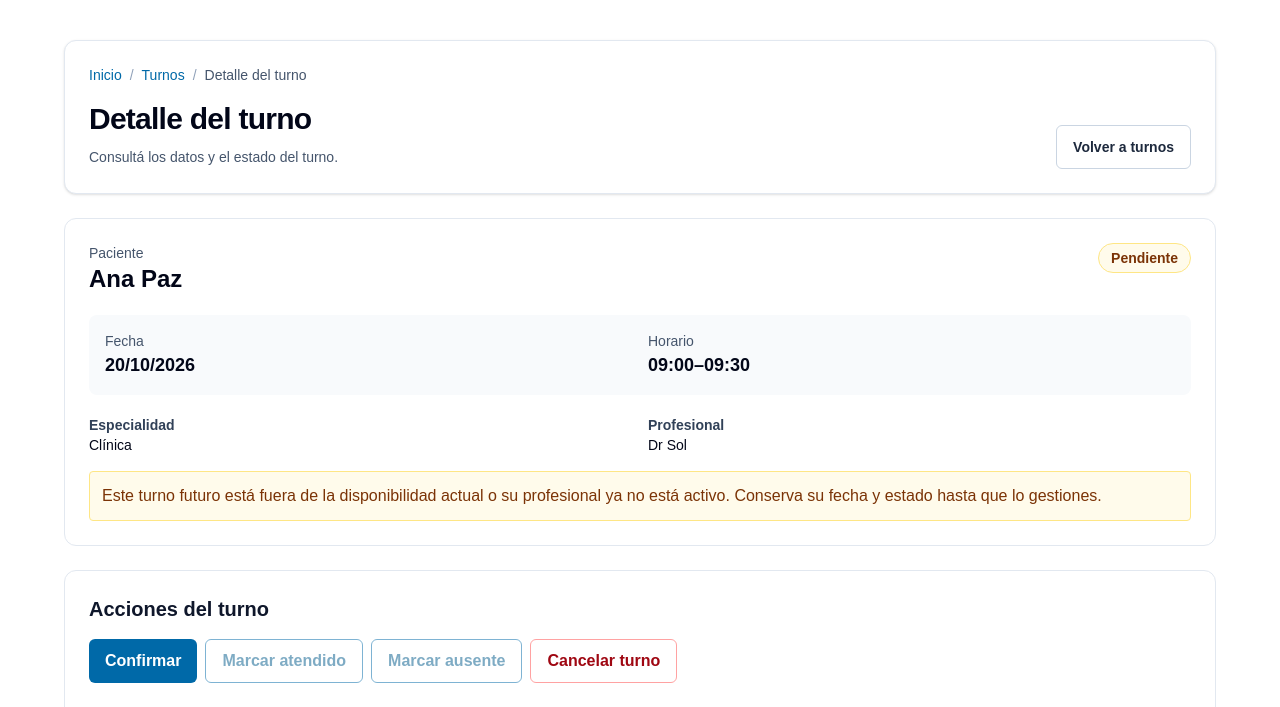
Test: appointment detail flow › asks before cancellation and prevents another status mutation after UNKNOWN_RESULT
The image size is (1280, 707).
Click the button "Cancelar turno": (604, 661) top-left (530, 639), bottom-right (677, 683)
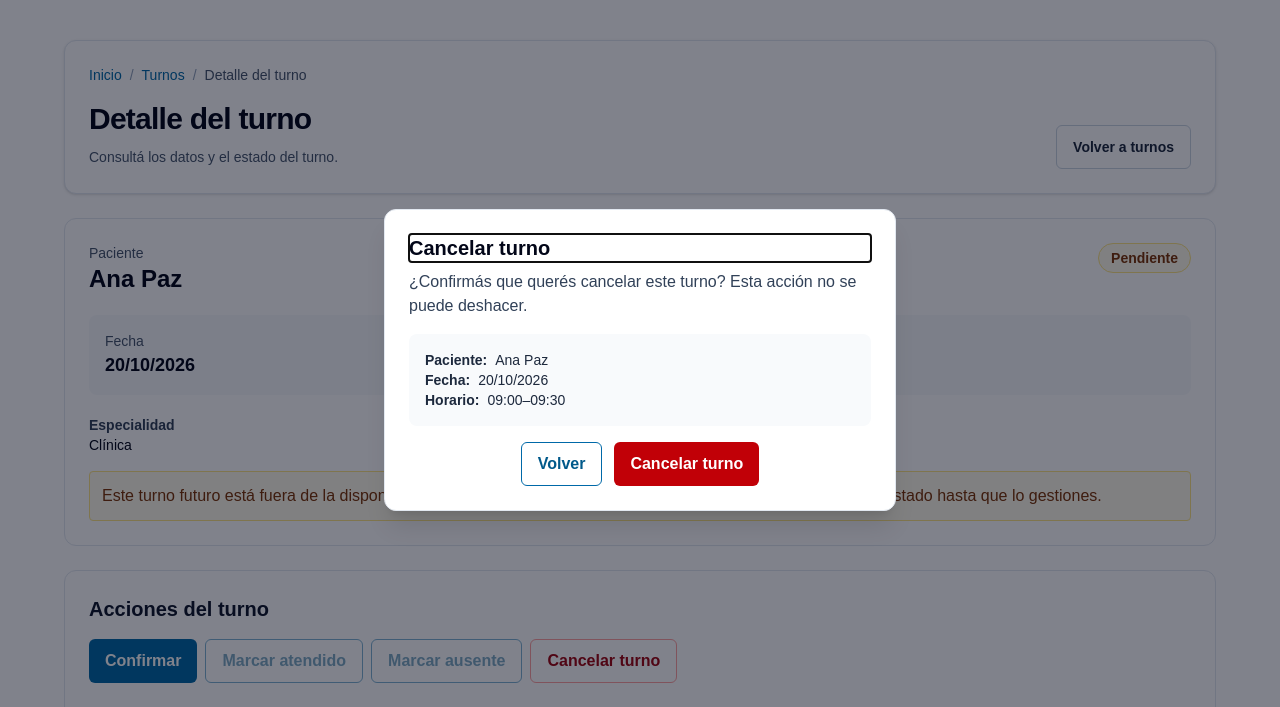
Click the button "Volver": (562, 464) top-left (521, 442), bottom-right (602, 486)
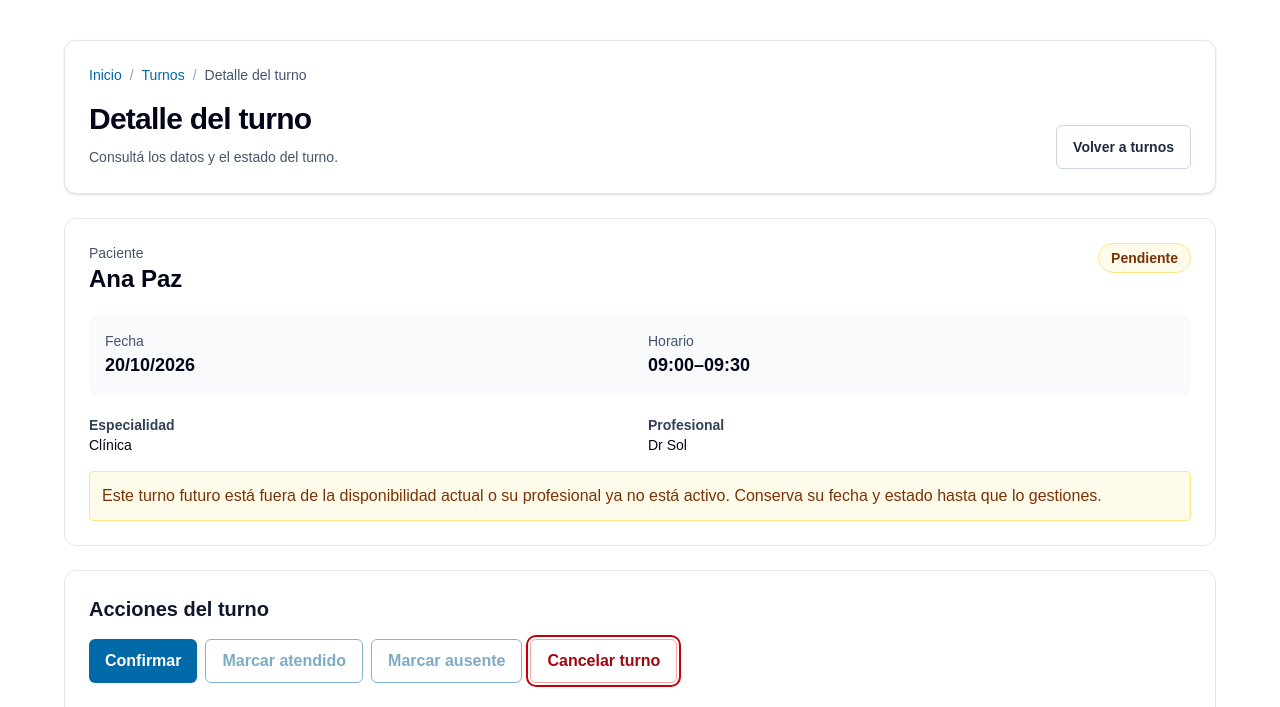
Click the button "Cancelar turno": (604, 661) top-left (530, 639), bottom-right (677, 683)
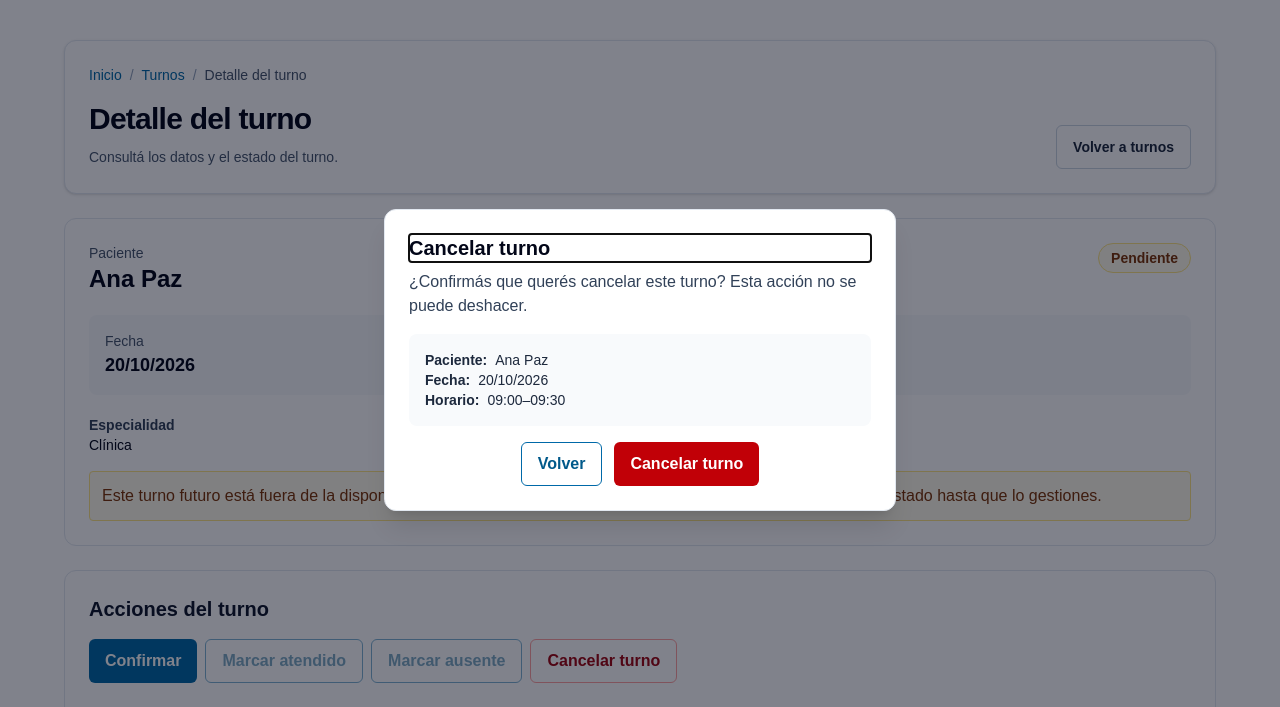
Click the button "Cancelar turno": (687, 464) top-left (614, 442), bottom-right (759, 486)
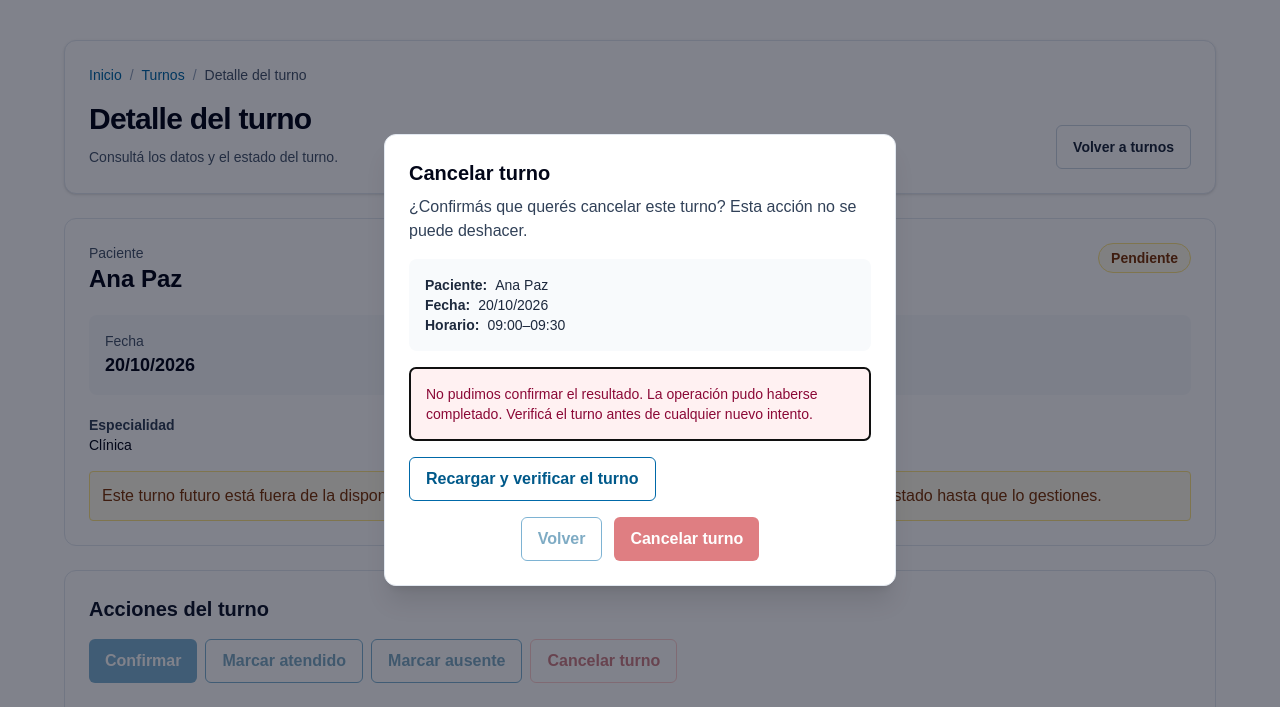
Check: the message shows "pudo haberse completado", box top-left (426, 386), bottom-right (818, 422)
Check: the button "Volver" is disabled, box top-left (521, 517), bottom-right (602, 561)
